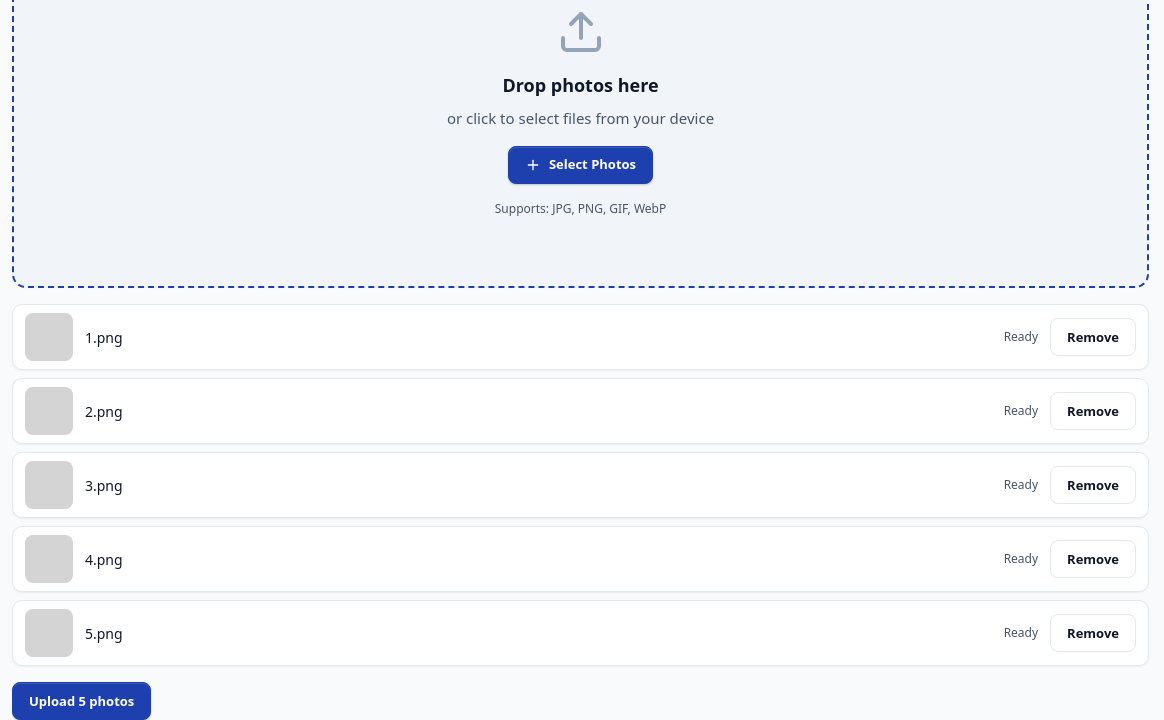
Test case: uploading sends every photo to the chosen album and reports all of them
Earlier steps of the test are not shown.
(page scrolled)
Click the button "Upload 5 photos": click(82, 701) [12,682,151,719]
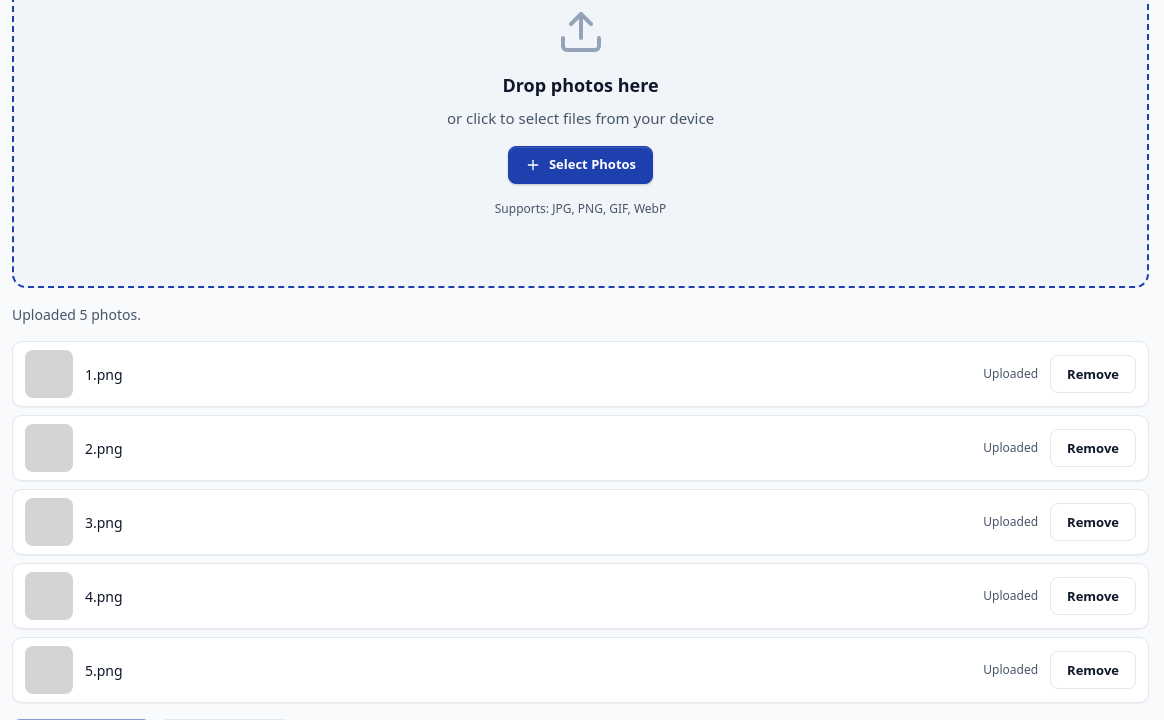
Expected: the text "Uploaded" is shown 5 times, [983,365,1038,383]; [983,439,1038,457]; [983,513,1038,531]; [983,587,1038,605]; [983,661,1038,679]
Result: the message reads "Uploaded 5 photos." at [12,305,141,324]
